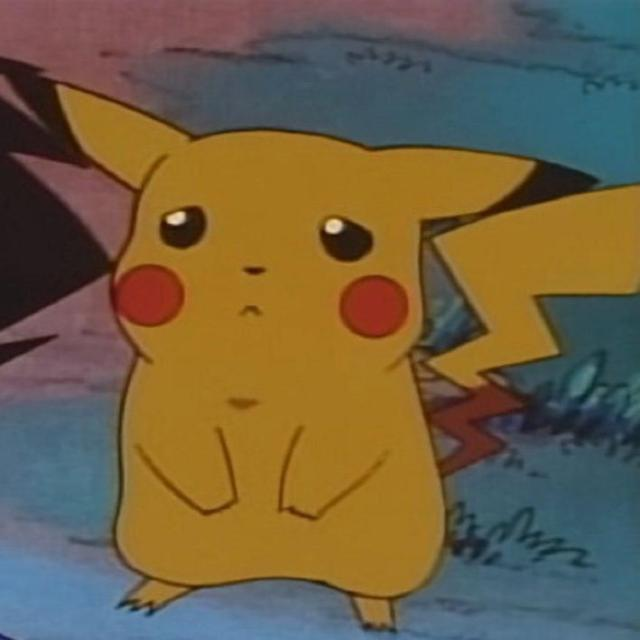pikachu: (13, 77, 640, 634)
